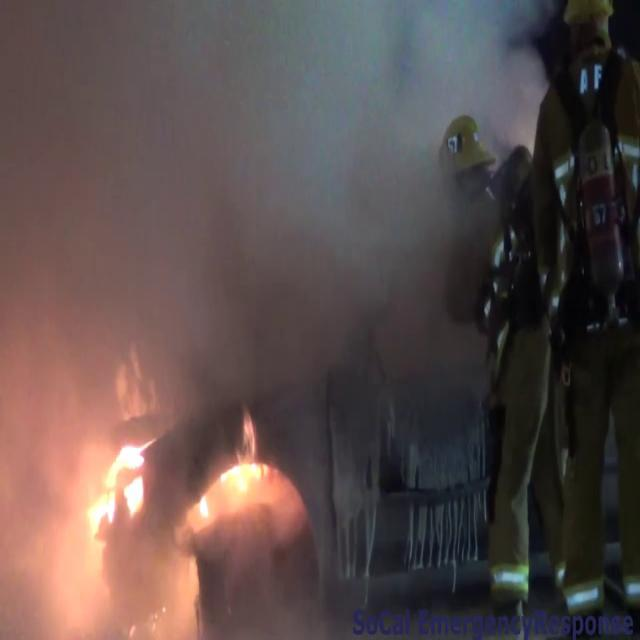Fire: (84, 424, 156, 544), (194, 426, 278, 516)
Smoke: (4, 1, 498, 612)
